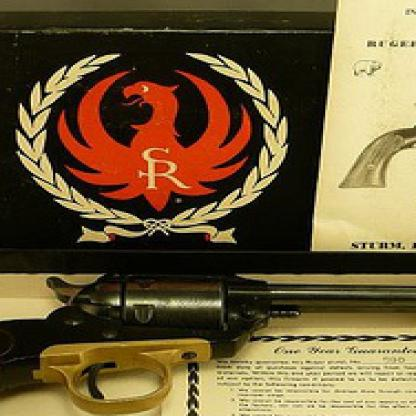gun: (0, 268, 414, 414), (332, 98, 414, 193)
